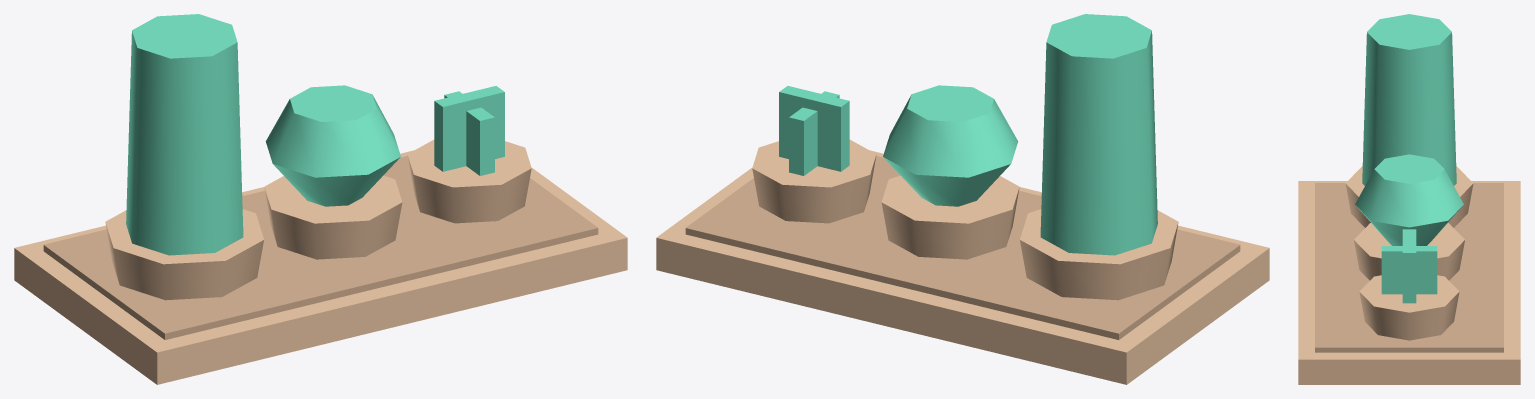
The model's file is plantCactusTrio.glb.
The picture shows the model from 3 angles, left to right: view 1: azimuth 30°, elevation 25°; view 2: azimuth 150°, elevation 25°; view 3: azimuth 270°, elevation 25°; orthographic projection. The views are drawn at different scales.
Parts seen in each view (by area): view 1: plantCactusTrio; view 2: plantCactusTrio; view 3: plantCactusTrio.
Boxes of the visible parts, x1,y1,x2,y2 form: plantCactusTrio: [14, 14, 627, 384]; plantCactusTrio: [656, 14, 1269, 384]; plantCactusTrio: [1298, 14, 1520, 384].
Bounding box in the file's own units: 0.38 × 0.21 × 0.2.
